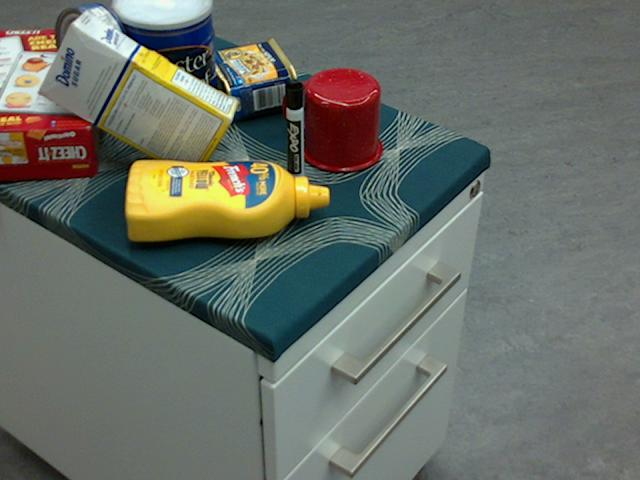cracker_box: (0, 30, 105, 179)
gelatin_box: (79, 0, 169, 57)
large_marker: (284, 78, 304, 186)
master_chef_can: (113, 0, 216, 139)
mug: (283, 67, 380, 172)
mustard_bottle: (124, 160, 329, 241)
potted_meat_can: (204, 37, 299, 120)
sugar_box: (39, 12, 240, 178)
tomato_soup_can: (120, 0, 214, 85)
tuna_fish_can: (55, 3, 130, 90)
